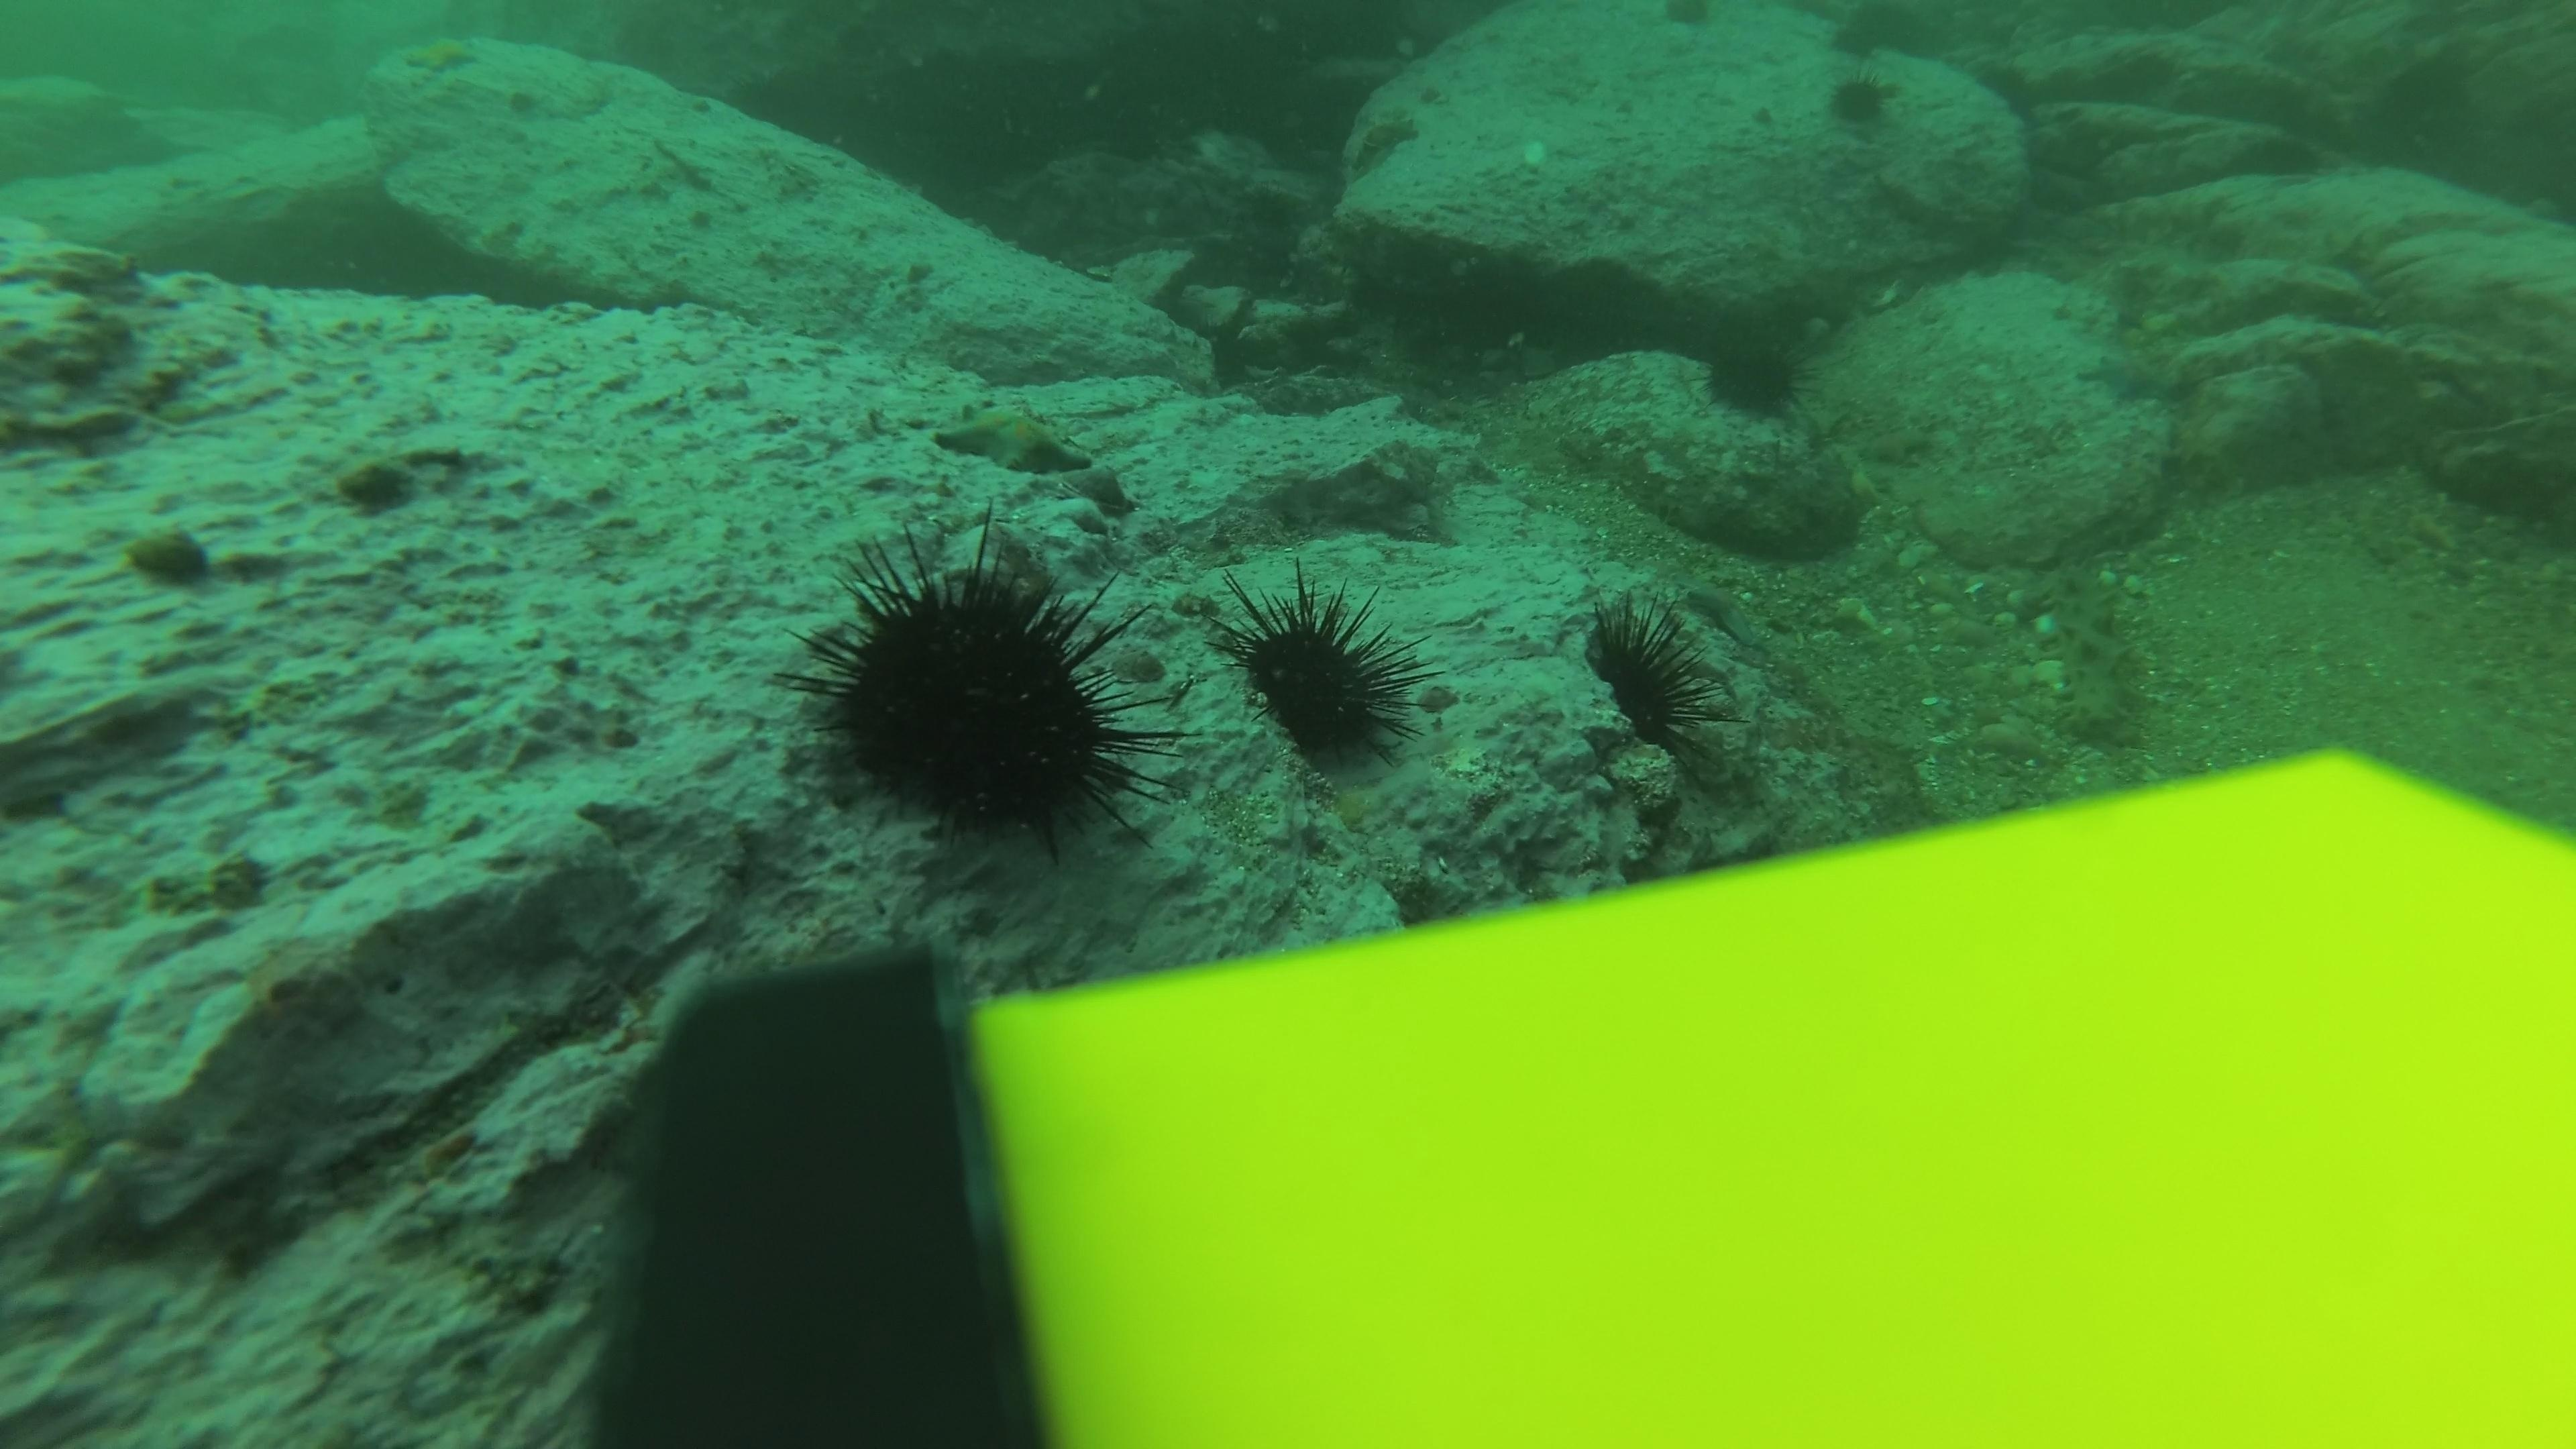echinus: (793, 525, 1169, 860), (1217, 573, 1430, 775), (1571, 591, 1725, 761), (1691, 322, 1815, 425), (1812, 9, 1898, 83), (1819, 64, 1904, 136), (1974, 48, 2059, 120)
holothurian: (2036, 563, 2166, 761)
starfish: (927, 403, 1102, 479), (1672, 577, 1776, 653), (2075, 345, 2185, 409), (1343, 108, 1424, 170), (393, 28, 487, 80)
